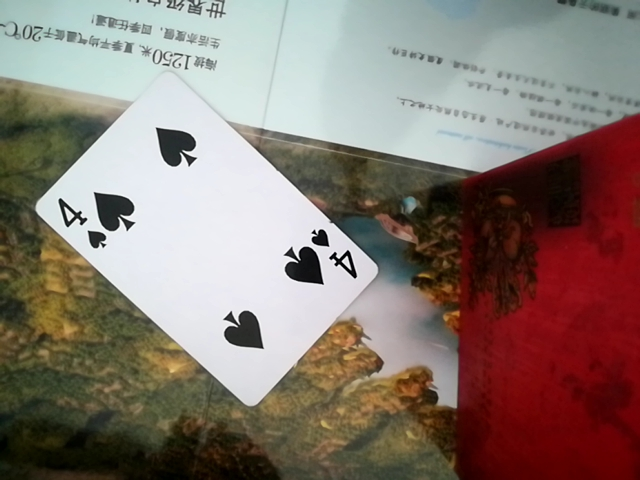ht 4: (35, 78, 380, 413)
